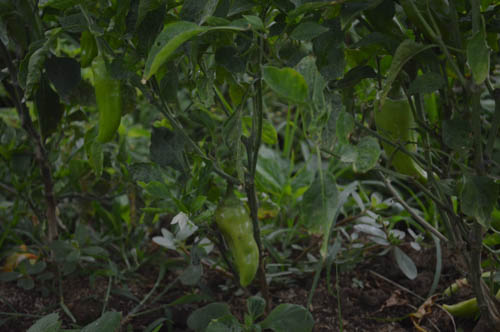ChiliPepper: (377, 96, 424, 175), (220, 202, 260, 285), (87, 61, 118, 143)
